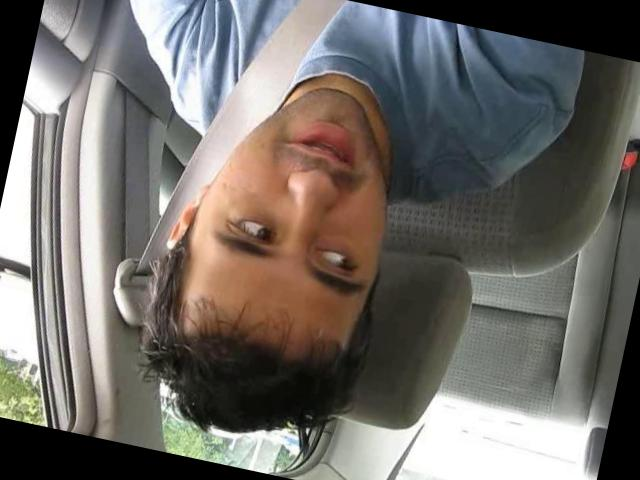eye_open: (211, 203, 289, 253), (306, 236, 368, 282)
face: (174, 68, 413, 318)
